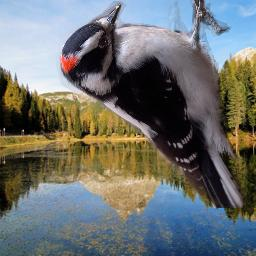Woodpecker: (56, 0, 247, 208)
